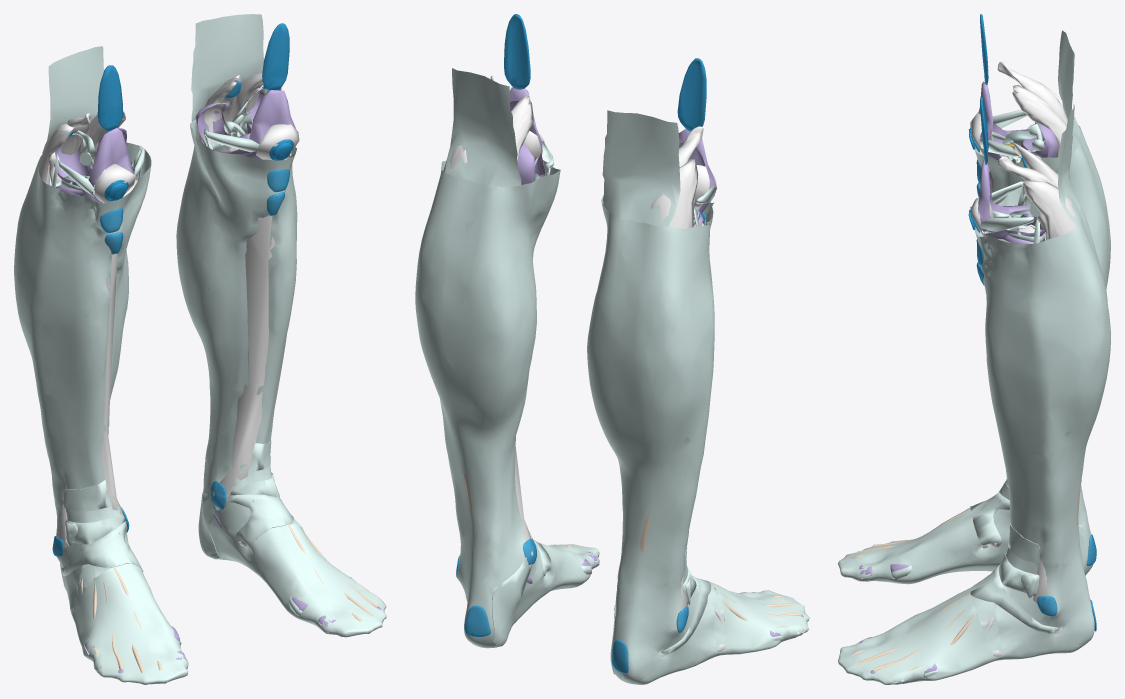
Rendered from ankle-foot.glb.
The picture shows the model from 3 angles, left to right: view 1: azimuth 30°, elevation 25°; view 2: azimuth 150°, elevation 25°; view 3: azimuth 270°, elevation 25°; orthographic projection. The views are drawn at different scales.
Parts seen in each view (by area): view 1: Crural fascia.r, Crural fascia.l, Tibia.l, Popliteal fascia.l, Popliteal fascia.r, Articular capsule of knee joint.l, Articular capsule of knee joint.r, Tibia.r, Superior fibular retinaculum.l, Superior fibular retinaculum.r, Suprapatellar bursa.l, Suprapatellar bursa.r (+12 smaller); view 2: Crural fascia.r, Crural fascia.l, Popliteal fascia.r, Popliteal fascia.l, Flexor retinaculum of ankle.l, Suprapatellar bursa.r, Suprapatellar bursa.l, Lateral head of gastrocnemius.r, Articular capsule of knee joint.l, Medial head of gastrocnemius.l, Superior fibular retinaculum.r, Articular capsule of knee joint.r (+1 smaller); view 3: Crural fascia.l, Crural fascia.r, Lateral head of gastrocnemius.l, Articular capsule of knee joint.l, Superior fibular retinaculum.l, Articular capsule of knee joint.r, Medial head of gastrocnemius.r, Popliteal fascia.r, Popliteal fascia.l, Superior fibular retinaculum.r, Plantaris muscle.r, Inferior fibular retinaculum.l (+7 smaller).
Boxes of the visible parts, x1=… form: Crural fascia.r: x1=14, y1=142, x2=188, y2=684; Crural fascia.l: x1=176, y1=121, x2=386, y2=637; Tibia.l: x1=213, y1=145, x2=288, y2=507; Popliteal fascia.l: x1=191, y1=14, x2=263, y2=121; Popliteal fascia.r: x1=42, y1=46, x2=104, y2=153; Articular capsule of knee joint.l: x1=195, y1=88, x2=296, y2=159; Articular capsule of knee joint.r: x1=54, y1=128, x2=137, y2=203; Tibia.r: x1=78, y1=177, x2=137, y2=530; Superior fibular retinaculum.l: x1=227, y1=494, x2=293, y2=548; Superior fibular retinaculum.r: x1=61, y1=521, x2=143, y2=576; Suprapatellar bursa.l: x1=262, y1=23, x2=289, y2=90; Suprapatellar bursa.r: x1=97, y1=65, x2=122, y2=131; Crural fascia.r: x1=587, y1=194, x2=809, y2=684; Crural fascia.l: x1=415, y1=160, x2=599, y2=648; Popliteal fascia.r: x1=602, y1=110, x2=680, y2=226; Popliteal fascia.l: x1=445, y1=68, x2=521, y2=187; Flexor retinaculum of ankle.l: x1=492, y1=553, x2=532, y2=646; Suprapatellar bursa.r: x1=677, y1=58, x2=706, y2=131; Suprapatellar bursa.l: x1=504, y1=14, x2=530, y2=89; Lateral head of gastrocnemius.r: x1=651, y1=159, x2=698, y2=411; Articular capsule of knee joint.l: x1=509, y1=87, x2=546, y2=184; Medial head of gastrocnemius.l: x1=470, y1=95, x2=533, y2=417; Superior fibular retinaculum.r: x1=661, y1=576, x2=711, y2=655; Articular capsule of knee joint.r: x1=678, y1=129, x2=715, y2=226; Crural fascia.l: x1=838, y1=188, x2=1110, y2=684; Crural fascia.r: x1=838, y1=123, x2=1110, y2=584; Lateral head of gastrocnemius.l: x1=1023, y1=179, x2=1094, y2=403; Articular capsule of knee joint.l: x1=978, y1=159, x2=1046, y2=244; Superior fibular retinaculum.l: x1=970, y1=565, x2=1060, y2=633; Articular capsule of knee joint.r: x1=978, y1=81, x2=1058, y2=160; Medial head of gastrocnemius.r: x1=1012, y1=85, x2=1079, y2=157; Popliteal fascia.r: x1=1058, y1=30, x2=1080, y2=152; Popliteal fascia.l: x1=1058, y1=104, x2=1080, y2=225; Superior fibular retinaculum.r: x1=970, y1=492, x2=1009, y2=545; Plantaris muscle.r: x1=997, y1=61, x2=1082, y2=517; Inferior fibular retinaculum.l: x1=970, y1=594, x2=1002, y2=652.
Size of the model in its own units: 0.2937 by 0.5569 by 0.2446.
